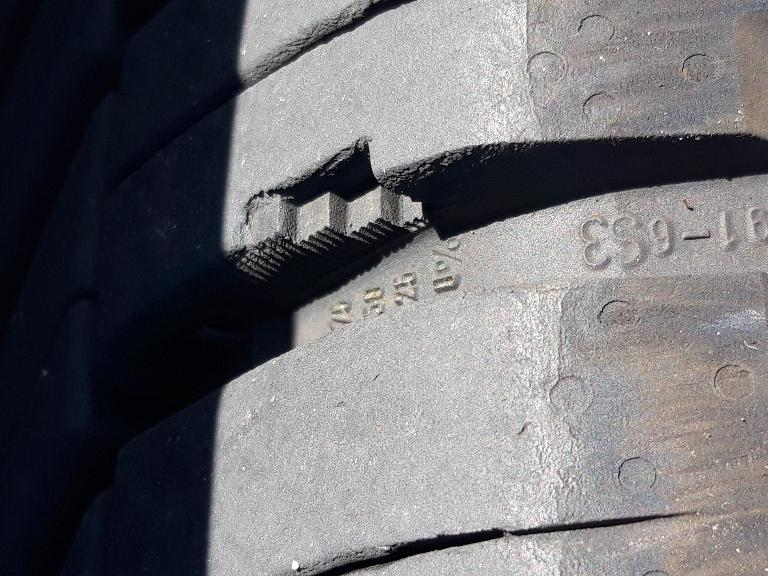temoin:80: (219, 133, 444, 312)
